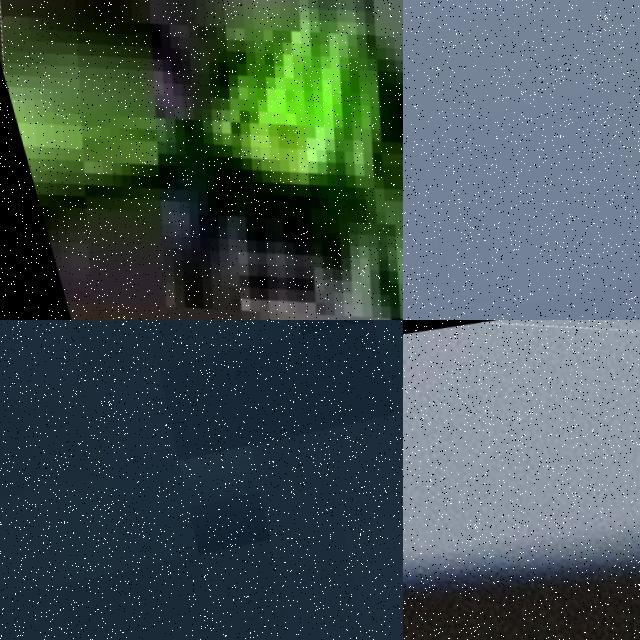drone: (0, 0, 403, 320), (403, 320, 640, 640)
